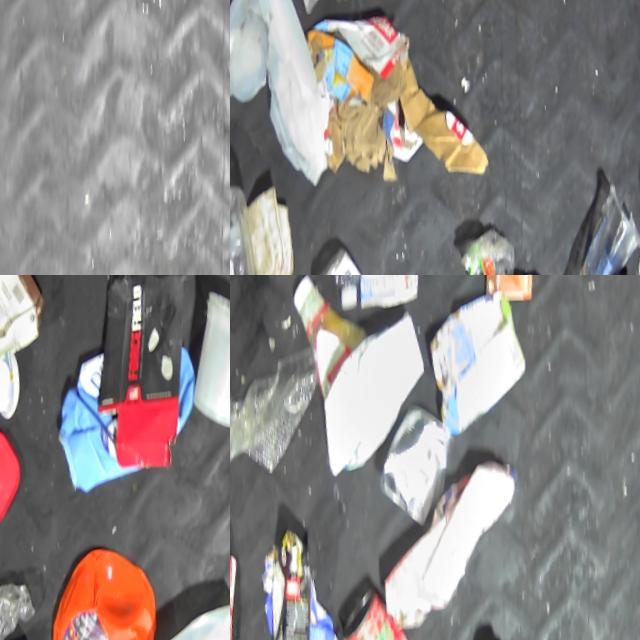can: (371, 399, 471, 541), (337, 584, 439, 640)
milk_jug: (230, 0, 353, 204), (419, 290, 543, 447)
non_white_jug: (48, 336, 215, 505), (41, 534, 188, 640), (0, 275, 64, 414), (230, 536, 267, 640)
plastic_bottle: (0, 575, 50, 640), (316, 275, 375, 317)
